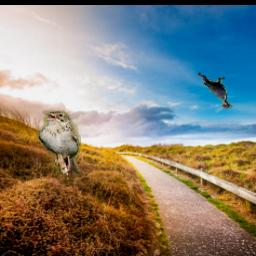Sparrow: (36, 111, 81, 177)
Woodpecker: (198, 72, 232, 108)
